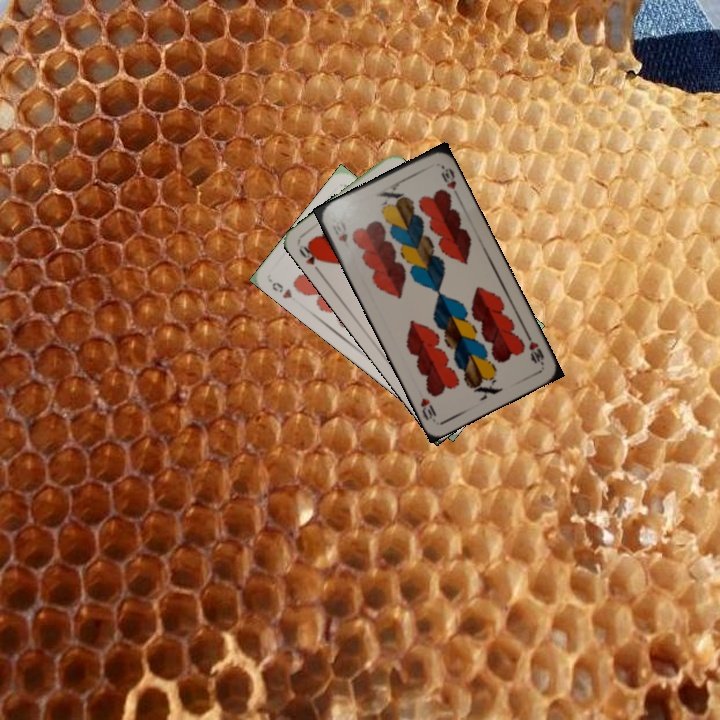H10: (522, 329, 547, 368), (329, 216, 350, 245)
H9: (267, 278, 295, 301)
HO: (294, 240, 324, 276)
